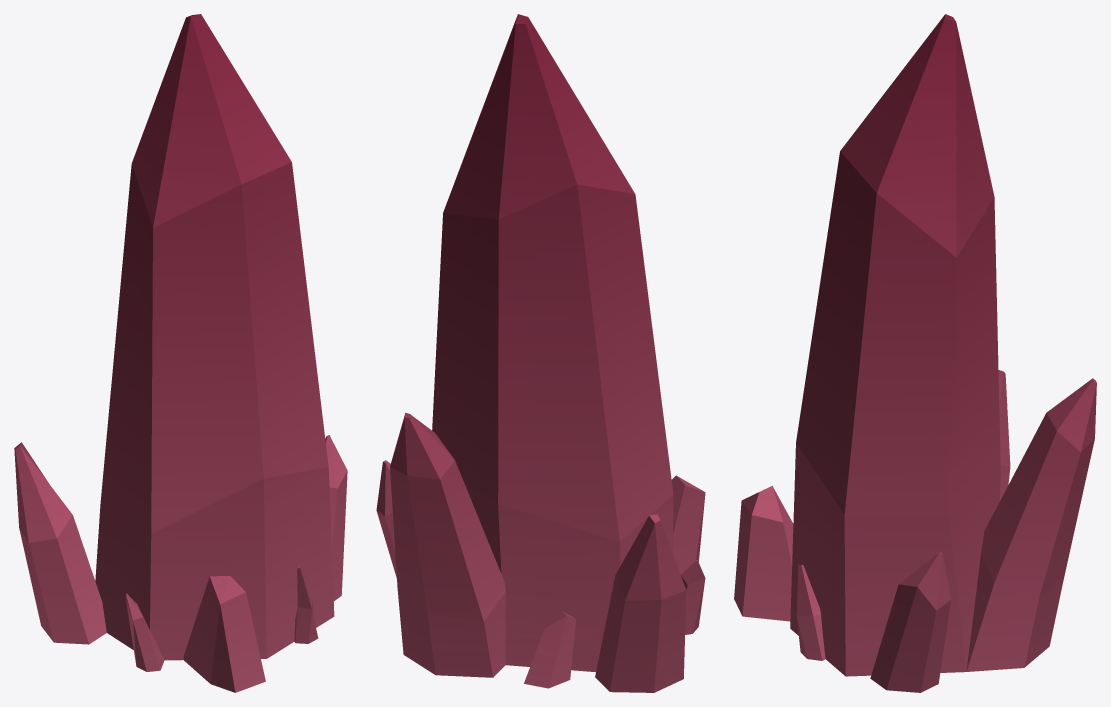
Rendered from Crystal_Red_01.fbx.
3 views of the same model, side by side, from view 1: azimuth 30°, elevation 25°; view 2: azimuth 150°, elevation 25°; view 3: azimuth 270°, elevation 25° (orthographic). The views are drawn at different scales.
Parts seen in each view (by area): view 1: Crystal_Red; view 2: Crystal_Red; view 3: Crystal_Red.
Part boxes in pixels (x1,y1,x2,y2): Crystal_Red: [14, 14, 347, 692]; Crystal_Red: [376, 14, 705, 692]; Crystal_Red: [734, 14, 1096, 692].
Bounding box in the file's own units: 0.75 × 1.4 × 0.75.
